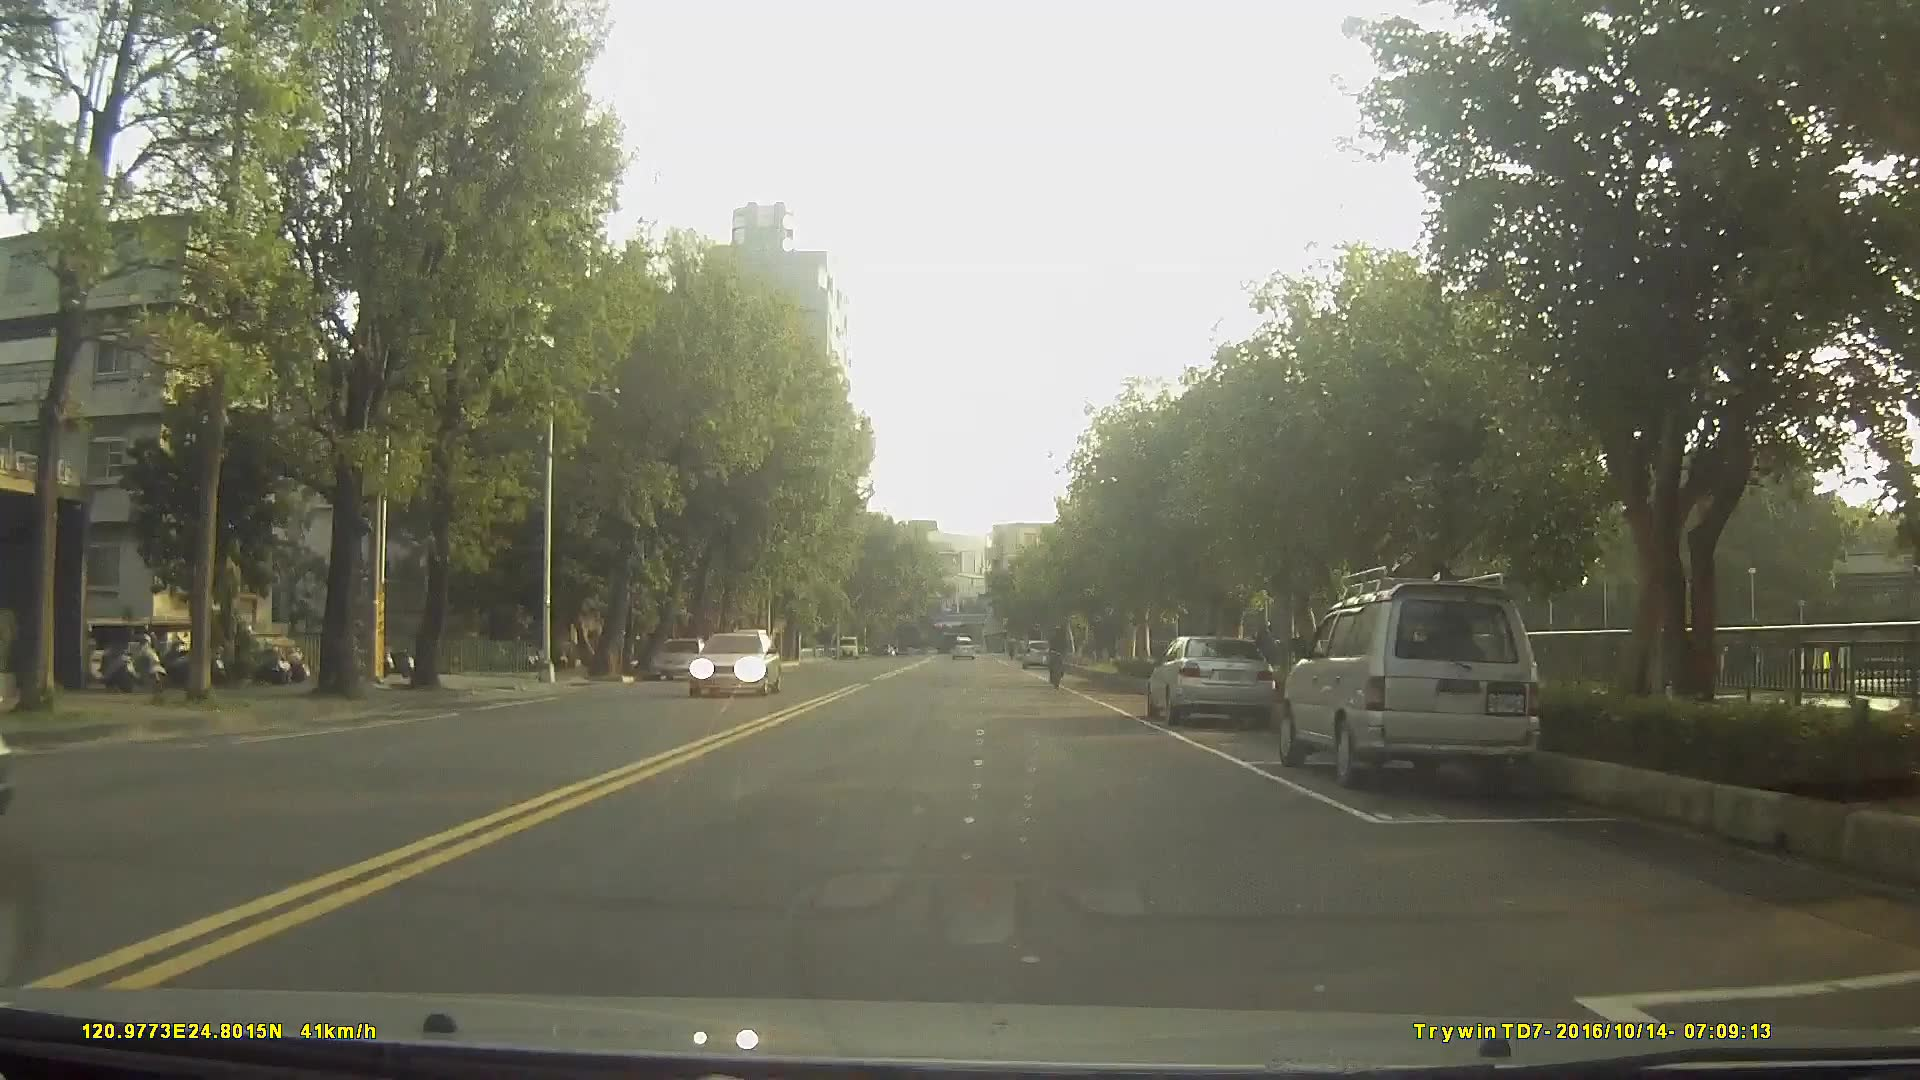rider: (1048, 623, 1070, 694)
vehicle: (1277, 573, 1541, 785), (1148, 632, 1281, 732), (683, 628, 783, 699), (649, 636, 709, 681), (722, 631, 769, 676), (1020, 636, 1053, 669), (947, 635, 975, 662)
